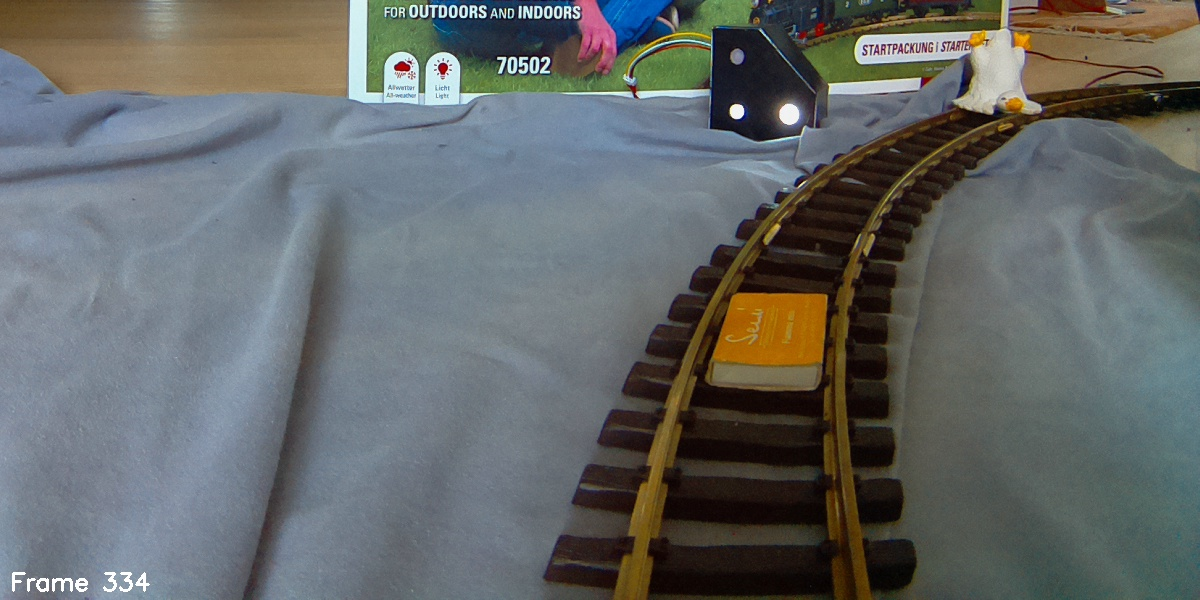Ente: (953, 27, 1046, 122)
Halt: (712, 26, 823, 137)
